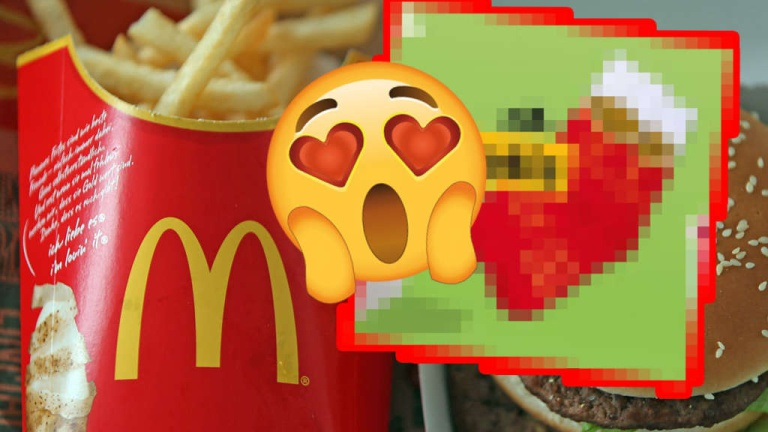mcdonalds: (107, 210, 313, 396)
